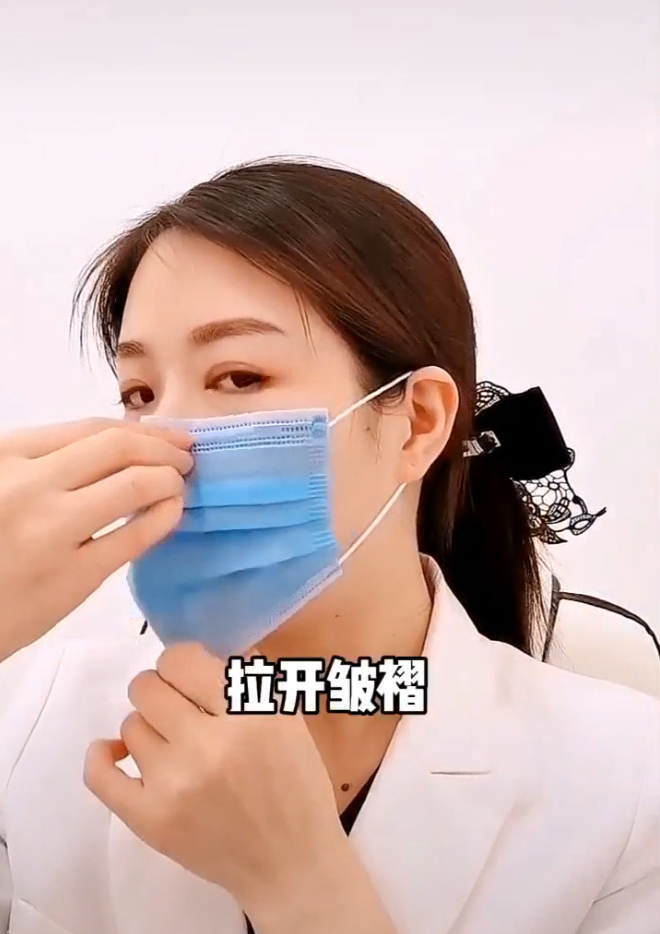face_mask: (115, 270, 347, 636)
